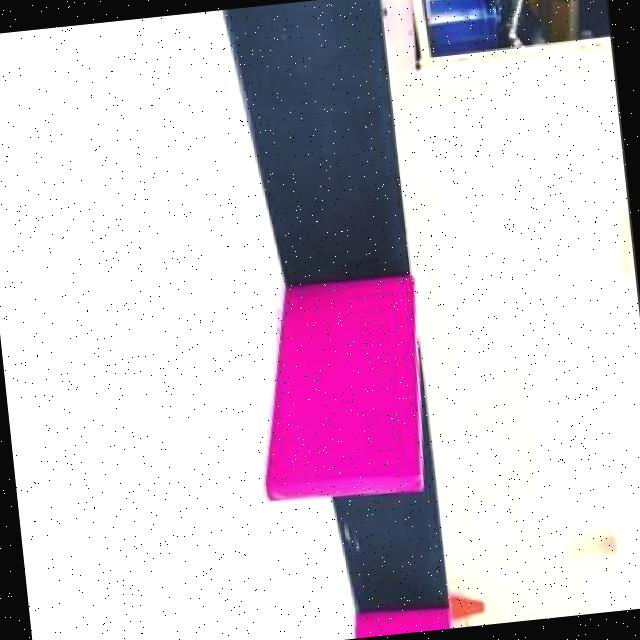xparking: (251, 276, 422, 498), (355, 606, 449, 638)
